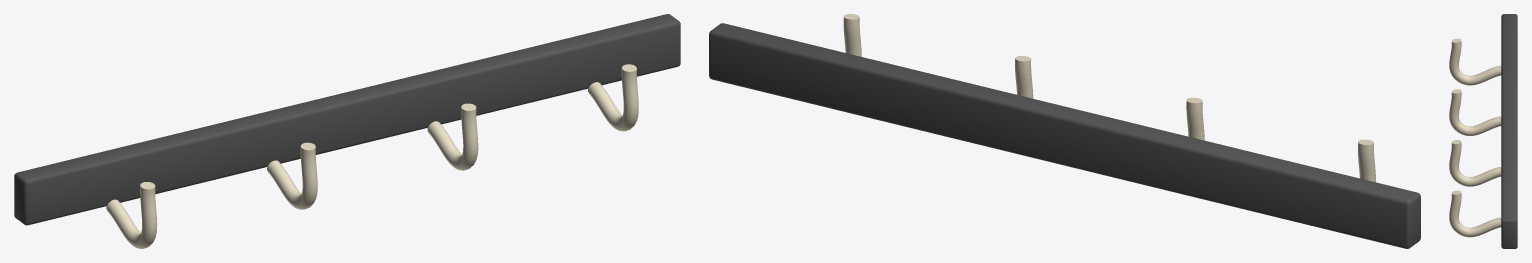
Rendered from it_hook_rail.glb.
3 views of the same model, side by side, from view 1: azimuth 30°, elevation 25°; view 2: azimuth 150°, elevation 25°; view 3: azimuth 270°, elevation 25° (orthographic). The views are drawn at different scales.
Parts seen in each view (by area): view 1: rail, hook1, hook3, hook2, hook0; view 2: rail, hook1, hook3, hook2, hook0; view 3: rail, hook1, hook3, hook2, hook0.
Part boxes in pixels (x1,y1,x2,y2): rail: [14, 14, 680, 225]; hook1: [267, 142, 317, 209]; hook3: [588, 64, 638, 131]; hook2: [427, 103, 478, 170]; hook0: [106, 182, 157, 248]; rail: [709, 23, 1420, 248]; hook1: [1186, 97, 1204, 140]; hook3: [843, 14, 861, 56]; hook2: [1015, 56, 1033, 98]; hook0: [1357, 139, 1375, 182]; rail: [1501, 14, 1517, 248]; hook1: [1449, 89, 1501, 136]; hook3: [1449, 190, 1501, 237]; hook2: [1449, 140, 1501, 186]; hook0: [1449, 38, 1501, 85].
Size of the model in its own units: 0.6 by 0.0606 by 0.084.
